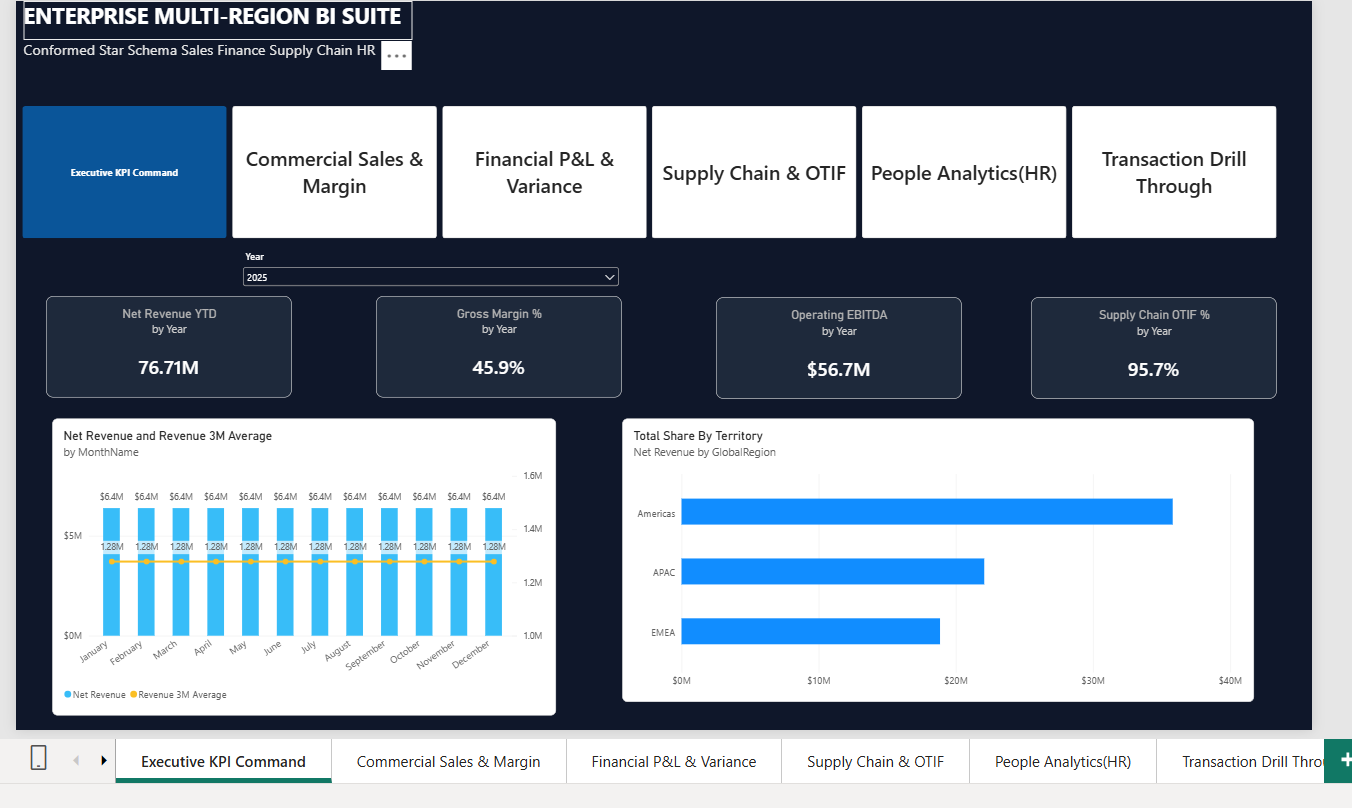

Layout of this report page (visuals, bound fields, positions):
{"tool":"powerbi","page":{"name":"Executive KPI Command","canvas":[1920,1080],"ordinal":0},"visuals":[{"type":"textbox","box":[10.3,0,576.3,57.6],"z":0},{"type":"textbox","box":[10.3,57.6,576.3,49.4],"z":1},{"type":"pageNavigator","box":[10,156,1858,196],"z":2},{"type":"kpi","fields":{"Indicator":["Fact_Sales.Net Revenue YTD"],"TrendLine":["Dim_Date.FullDate.Variation.Date Hierarchy.Year"]},"box":[45.2,437.9,363.7,150.2],"z":8},{"type":"kpi","fields":{"Indicator":["Fact_Sales.Operating EBITDA"],"TrendLine":["Dim_Date.FullDate.Variation.Date Hierarchy.Year"]},"box":[1036.9,439.7,363.7,150.2],"z":10},{"type":"kpi","fields":{"Indicator":["Fact_Sales.Gross Margin %"],"TrendLine":["Dim_Date.FullDate.Variation.Date Hierarchy.Year"]},"box":[533.8,437.9,363.7,150.2],"z":11},{"type":"kpi","fields":{"Indicator":["Fact_Sales.Supply Chain OTIF %"],"TrendLine":["Dim_Date.FullDate.Variation.Date Hierarchy.Year"]},"box":[1503.8,439.7,363.7,150.2],"z":12},{"type":"slicer","fields":{"Values":["Dim_Date.FullDate.Variation.Date Hierarchy.Year"]},"box":[331.2,371,566.4,92.3],"z":13},{"type":"lineClusteredColumnComboChart","fields":{"Category":["Dim_Date.MonthName"],"Y":["Fact_Sales.Net Revenue"],"Y2":["Fact_Sales.Revenue 3M Average"]},"box":[54,618,746,440],"z":14},{"type":"clusteredBarChart","title":"Total Share By Territory","fields":{"Category":["Dim_Geography.GlobalRegion"],"Y":["Fact_Sales.Net Revenue"]},"box":[898,618,936,420],"z":15}]}

Visuals, with their boxes on the page's 1920x1080 design canvas (x1, y1, x2, y2). These are canvas units, not pixel positions in the 1352x808 screenshot, which may show the page scaled, cropped or inside an application window:
textbox: (x1=10, y1=0, x2=587, y2=58)
textbox: (x1=10, y1=58, x2=587, y2=107)
pageNavigator: (x1=10, y1=156, x2=1868, y2=352)
kpi - Fact_Sales.Net Revenue YTD x Dim_Date.FullDate.Variation.Date Hierarchy.Year: (x1=45, y1=438, x2=409, y2=588)
kpi - Fact_Sales.Operating EBITDA x Dim_Date.FullDate.Variation.Date Hierarchy.Year: (x1=1037, y1=440, x2=1401, y2=590)
kpi - Fact_Sales.Gross Margin % x Dim_Date.FullDate.Variation.Date Hierarchy.Year: (x1=534, y1=438, x2=898, y2=588)
kpi - Fact_Sales.Supply Chain OTIF % x Dim_Date.FullDate.Variation.Date Hierarchy.Year: (x1=1504, y1=440, x2=1868, y2=590)
slicer - Dim_Date.FullDate.Variation.Date Hierarchy.Year: (x1=331, y1=371, x2=898, y2=463)
lineClusteredColumnComboChart - Dim_Date.MonthName x Fact_Sales.Net Revenue: (x1=54, y1=618, x2=800, y2=1058)
"Total Share By Territory" clusteredBarChart: (x1=898, y1=618, x2=1834, y2=1038)
